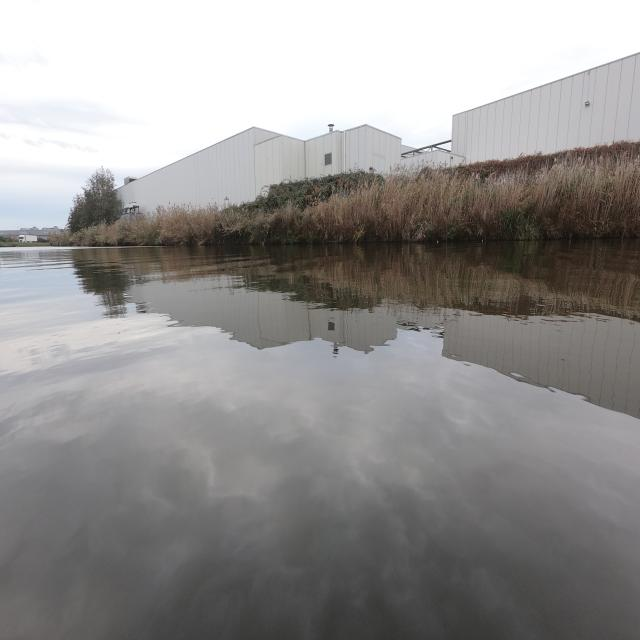reed: (54, 141, 640, 246)
water: (1, 235, 638, 639)
